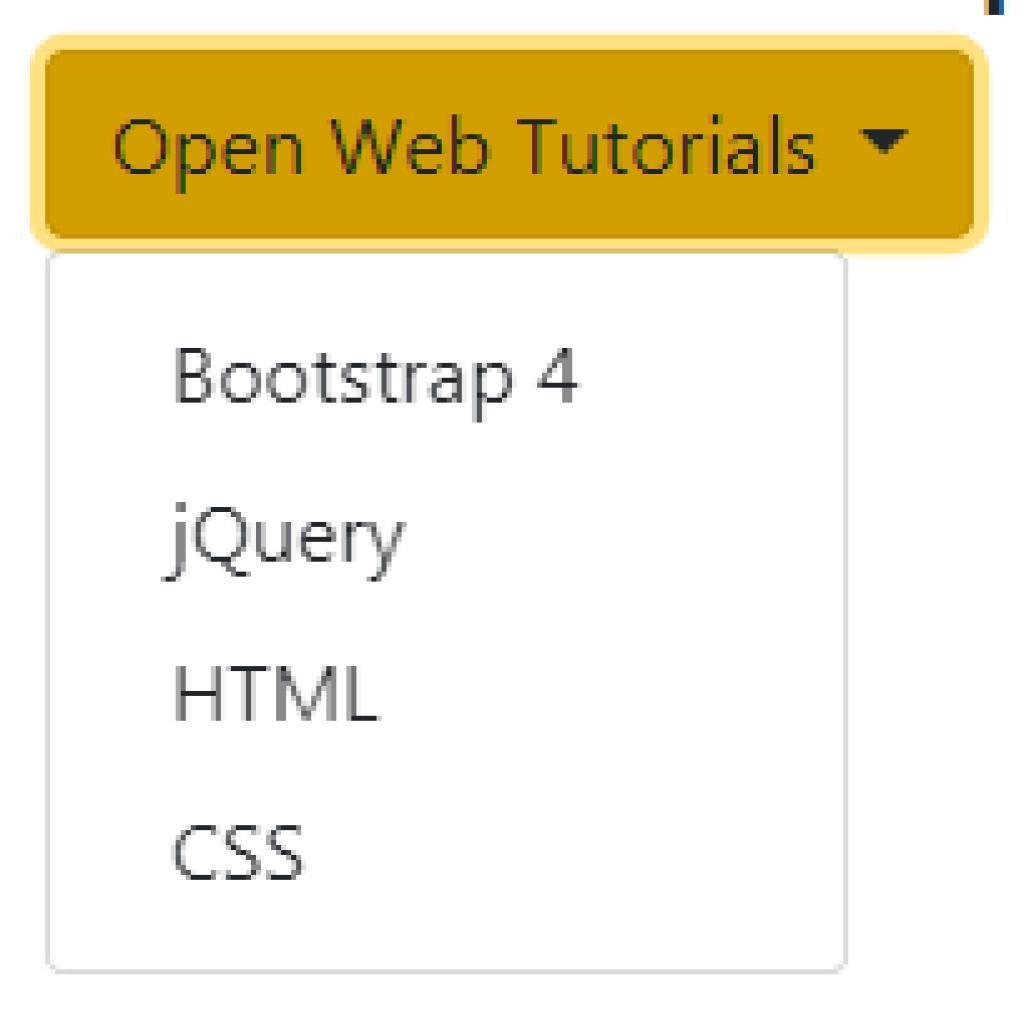dropdown: (30, 36, 989, 255)
